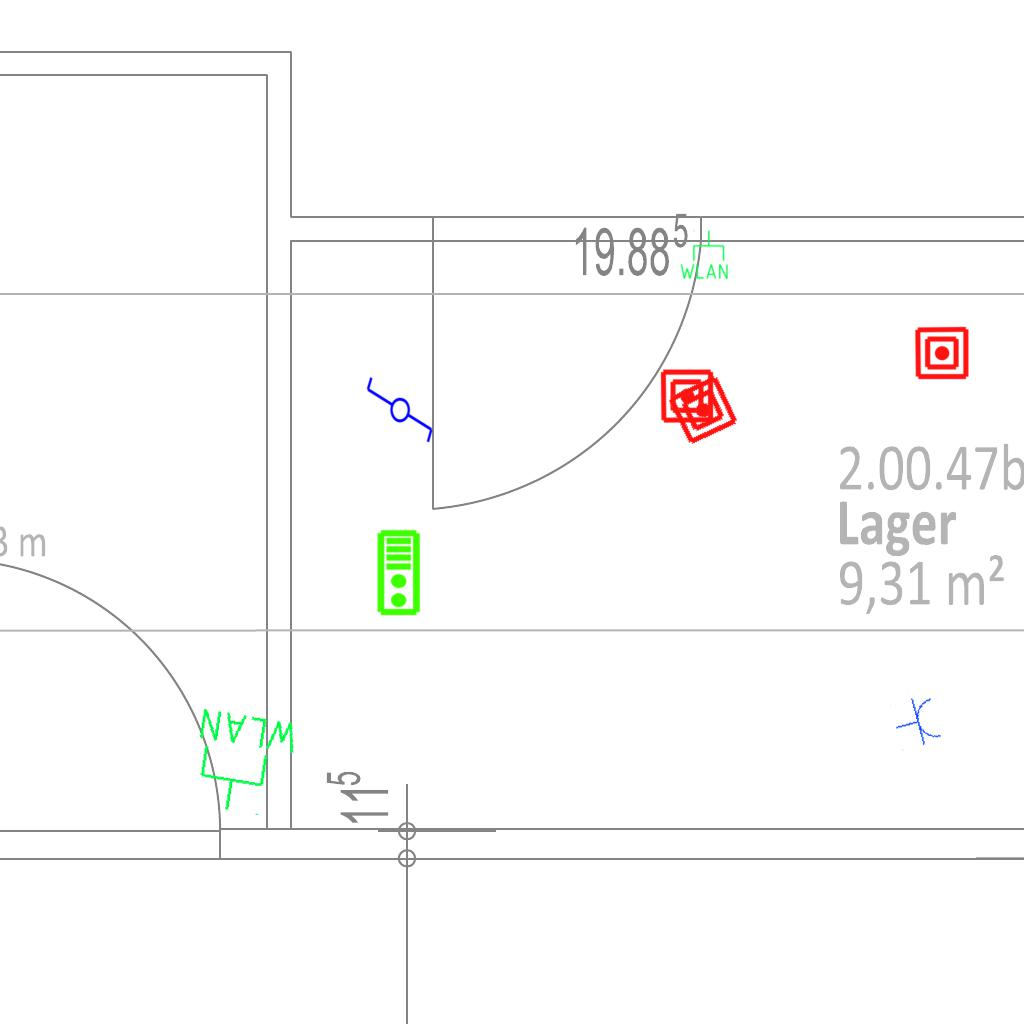Gegensprechanlage_mit_Video: (376, 529, 423, 617)
NAM-Nichtautomatischer_Melder: (665, 372, 741, 448), (914, 325, 970, 381), (659, 368, 715, 424)
Schukosteckdose_einfach: (889, 692, 945, 753)
WLAN: (184, 703, 304, 824), (678, 229, 730, 281)
Wechselschalter: (363, 375, 435, 453)
